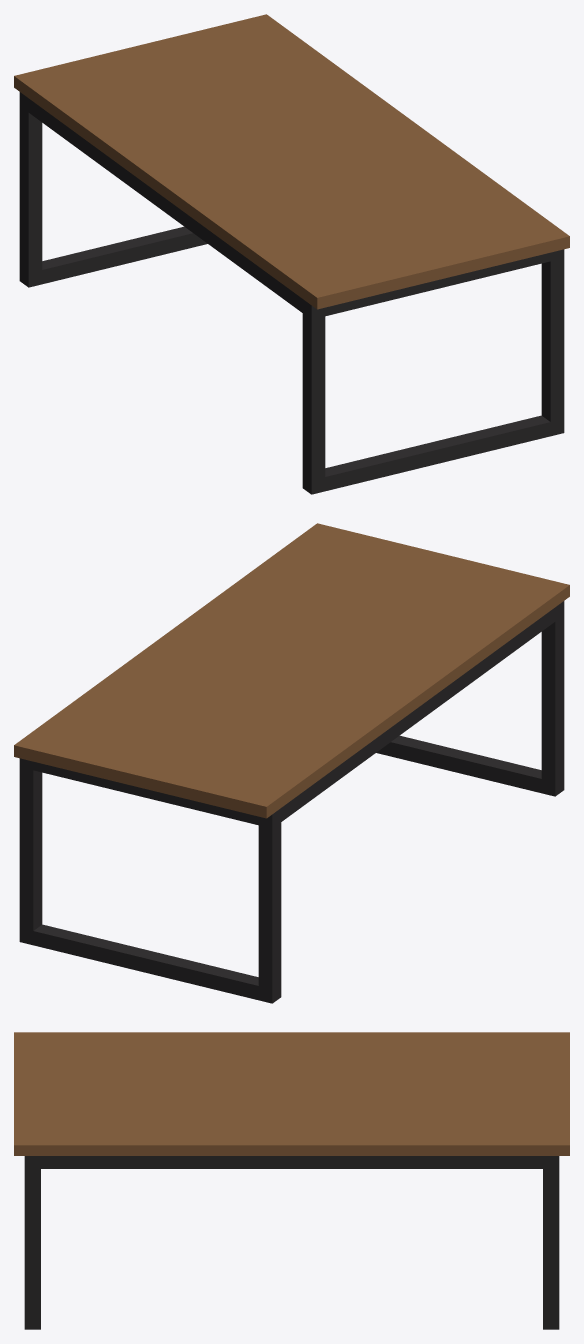
File: Mesa.fbx
3 views of the same model, one above another, from view 1: azimuth 30°, elevation 25°; view 2: azimuth 150°, elevation 25°; view 3: azimuth 270°, elevation 25° (orthographic). The views are drawn at different scales.
Visible parts, largest first — view 1: Plane; view 2: Plane; view 3: Plane.
Part boxes in pixels (box(x1,y1,x2,y2)): Plane: box(14, 14, 569, 494); Plane: box(14, 523, 569, 1003); Plane: box(14, 1032, 569, 1329).
Size of the model in its own units: 100 by 76 by 208.
